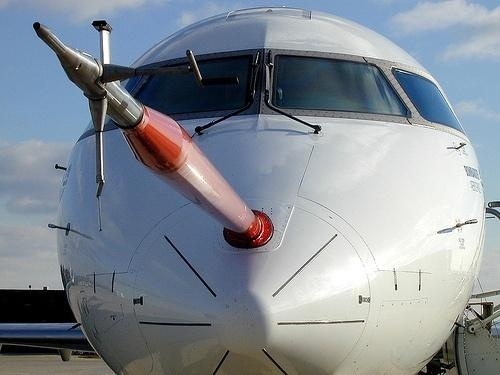aeroplane: (1, 7, 485, 375)
